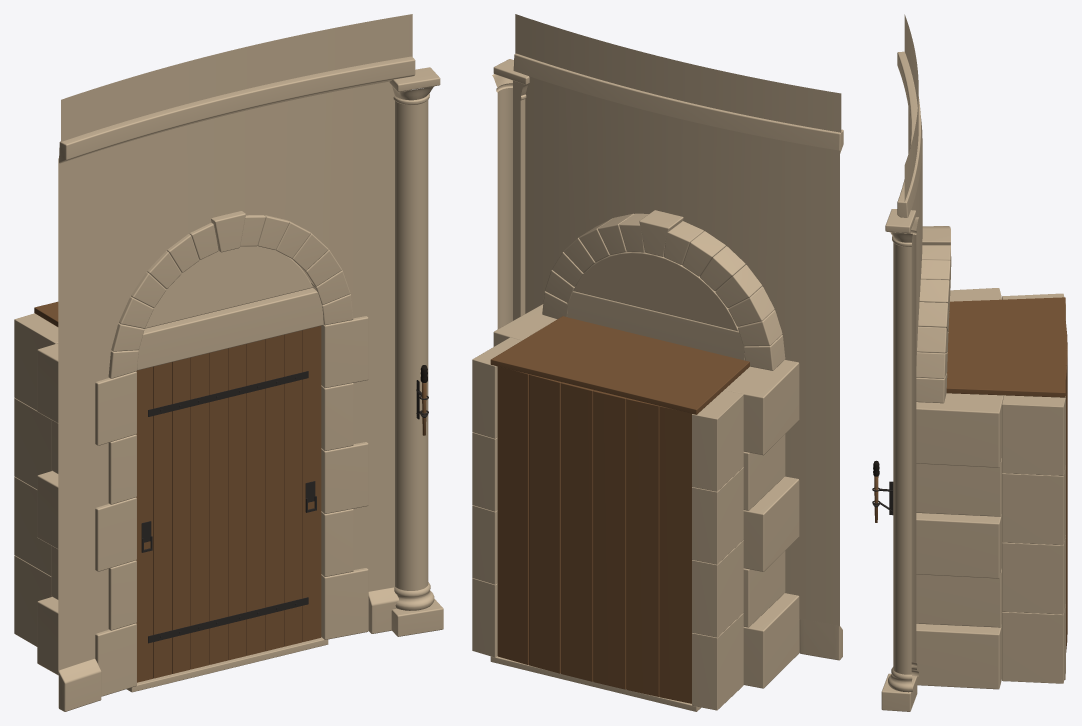
Rendered from door.glb.
3 renders of one model, left to right at view 1: azimuth 30°, elevation 25°; view 2: azimuth 150°, elevation 25°; view 3: azimuth 270°, elevation 25°, orthographic. The views are drawn at different scales.
Visible parts, largest first — view 1: door, leafL, leafR; view 2: door; view 3: door.
Part boxes in pixels (box(x1,y1,x2,y2)): door: box(14, 14, 443, 711); leafL: box(227, 326, 321, 660); leafR: box(136, 348, 229, 682); door: box(472, 14, 843, 711); door: box(872, 14, 1067, 711).
Size of the model in its own units: 3.99 by 6.27 by 2.05.
